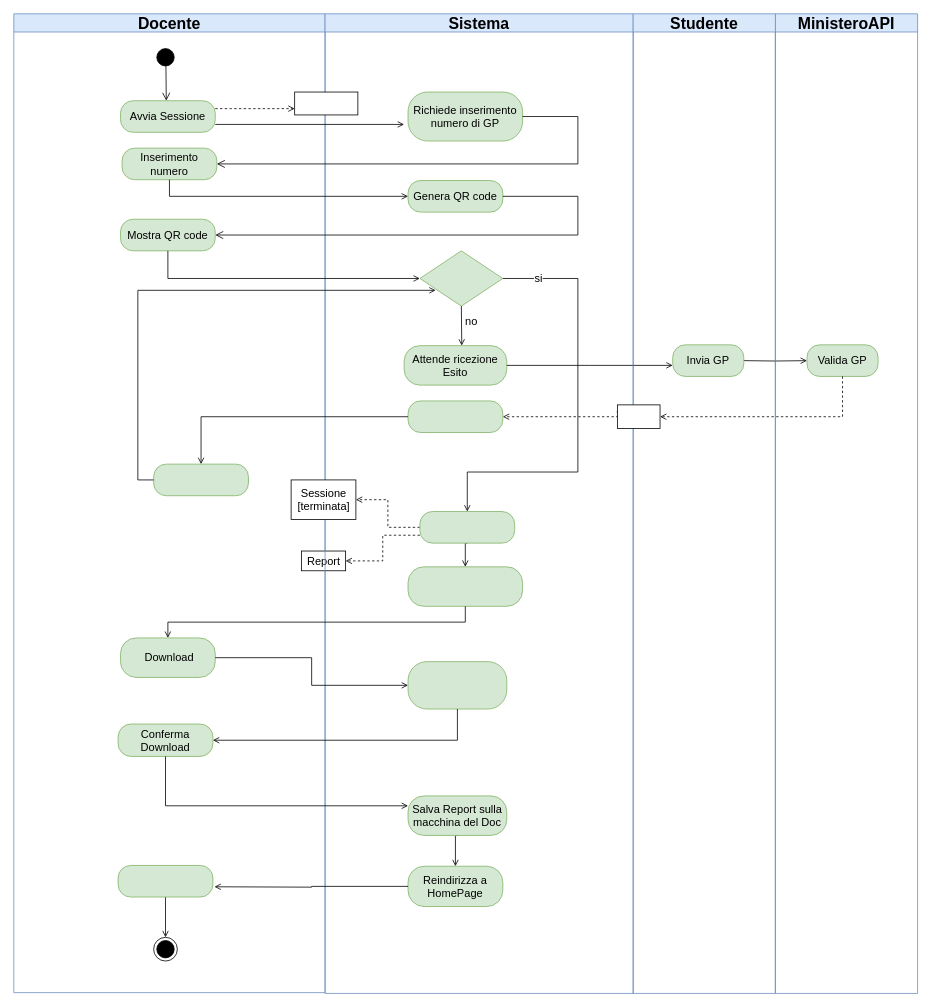
Some shapes in this 931 by 1007 pixel diagram are drawn without their labels. Here are the shapes that lost their labels. From the top down, the centre of each, then its label:
At point 326,103: "Sessione".
At point 461,278: "Numero raggiunto".
At point 455,416: "Riceve Esito".
At point 638,416: "Esito".
At point 200,479: "Visualizza Esito".
At point 467,527: "Salva Report".
At point 465,586: "Anteprima Report e tasto di download".
At point 457,685: "Richiesta Conferma Download".
At point 165,881: "HomePage".
